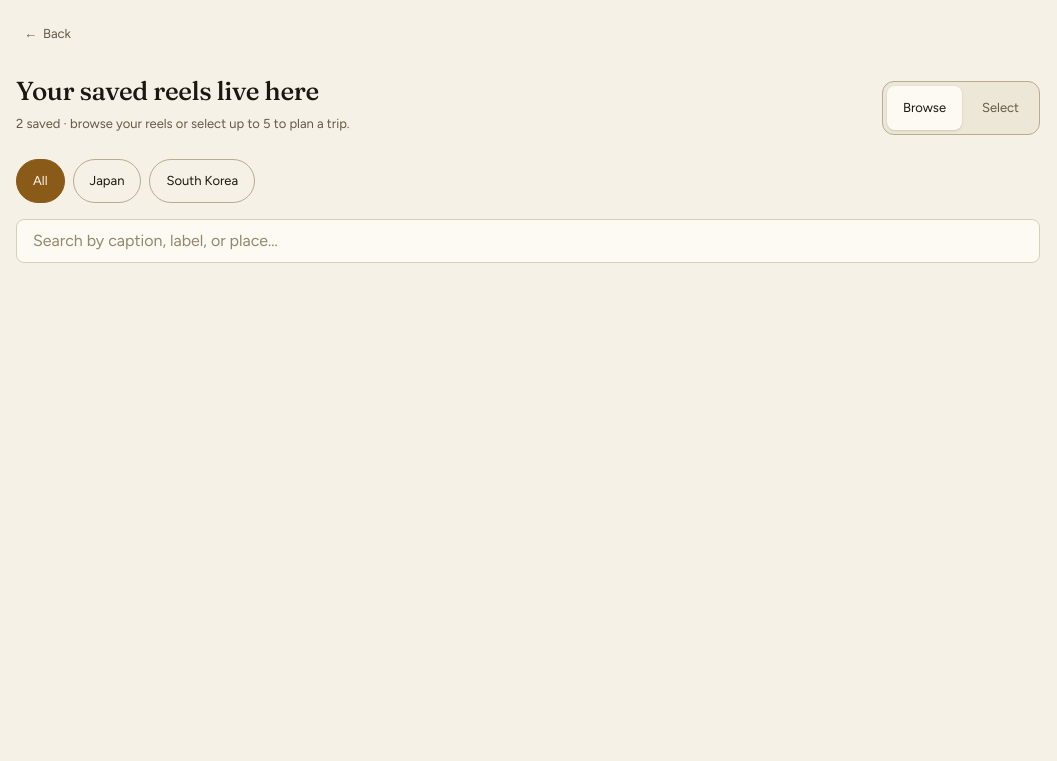
it: LibraryPanel › clears an active country filter when the All chip is clicked
Click the button "Select" at [1000, 108], box [966, 86, 1035, 130]
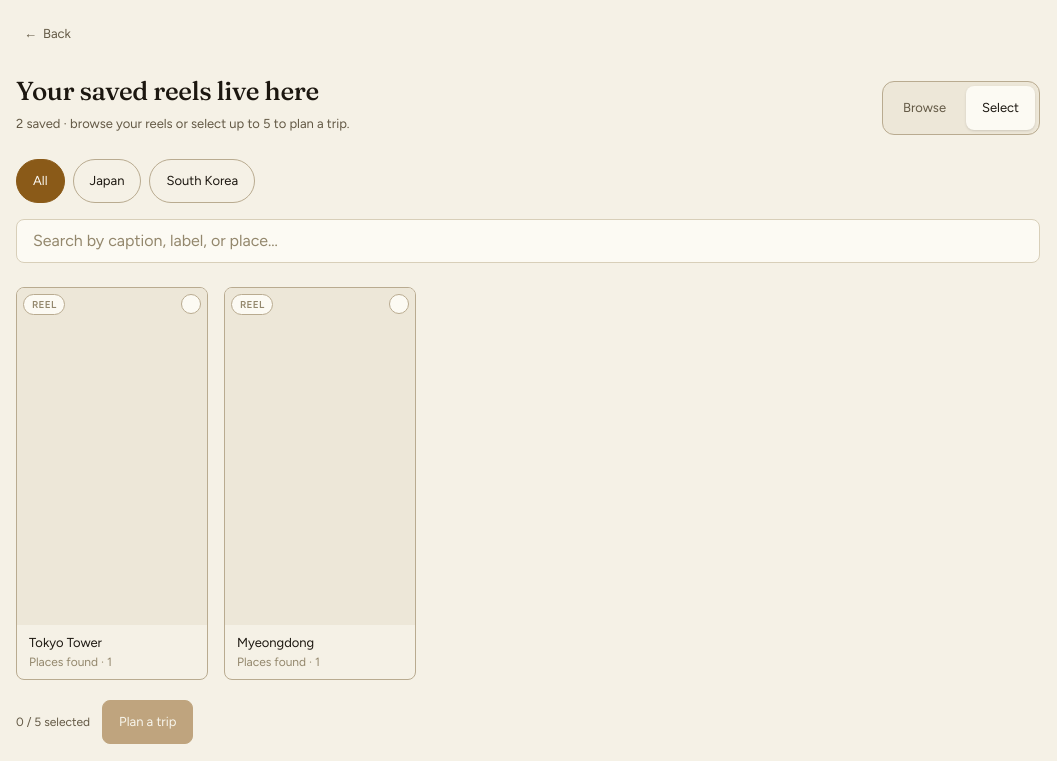
Click the button "Japan" at [107, 180], box [72, 158, 141, 202]
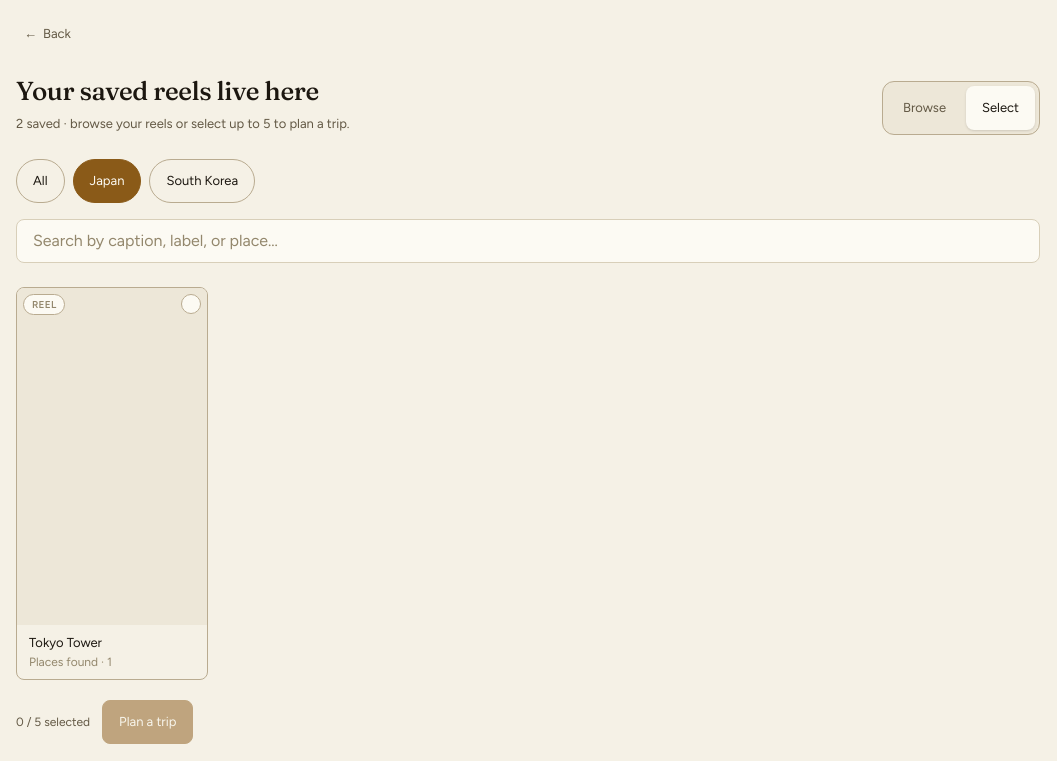
expect the text "Tokyo Tower" is shown: met, box [29, 635, 102, 650]
expect the button "Myeongdong" is gone: met
Click the button "All" at [40, 180], box [16, 158, 64, 202]
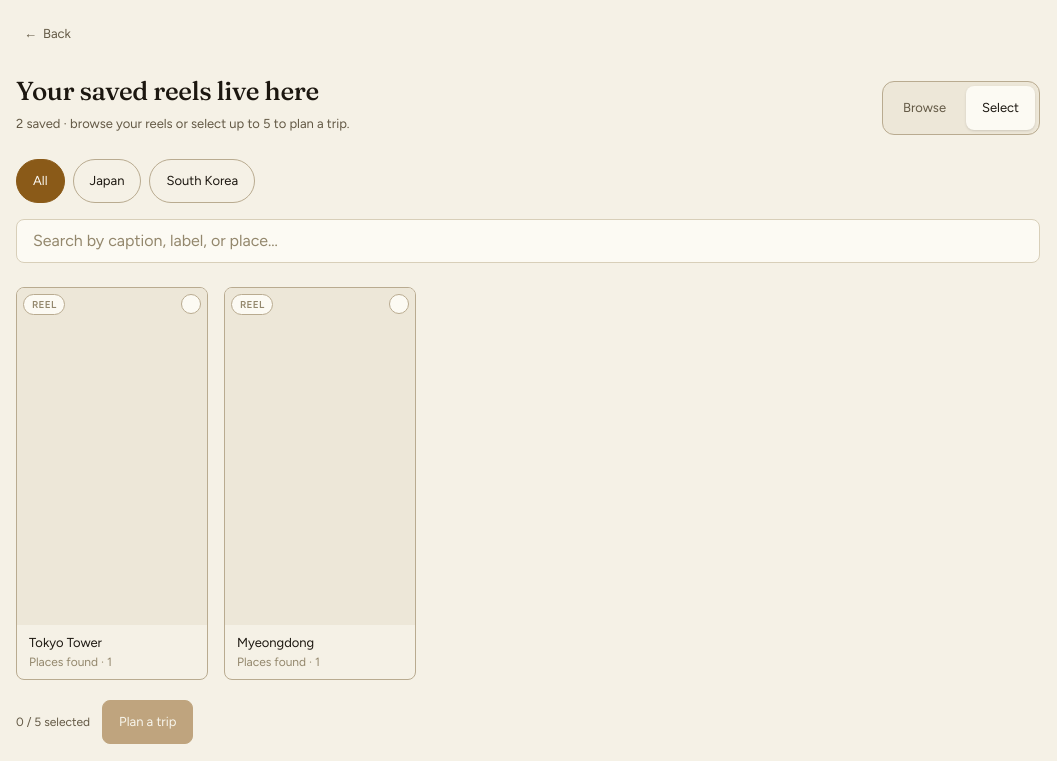
expect the text "Tokyo Tower" is shown: met, box [29, 635, 102, 650]
expect the text "Myeongdong" is shown: met, box [237, 635, 314, 650]
